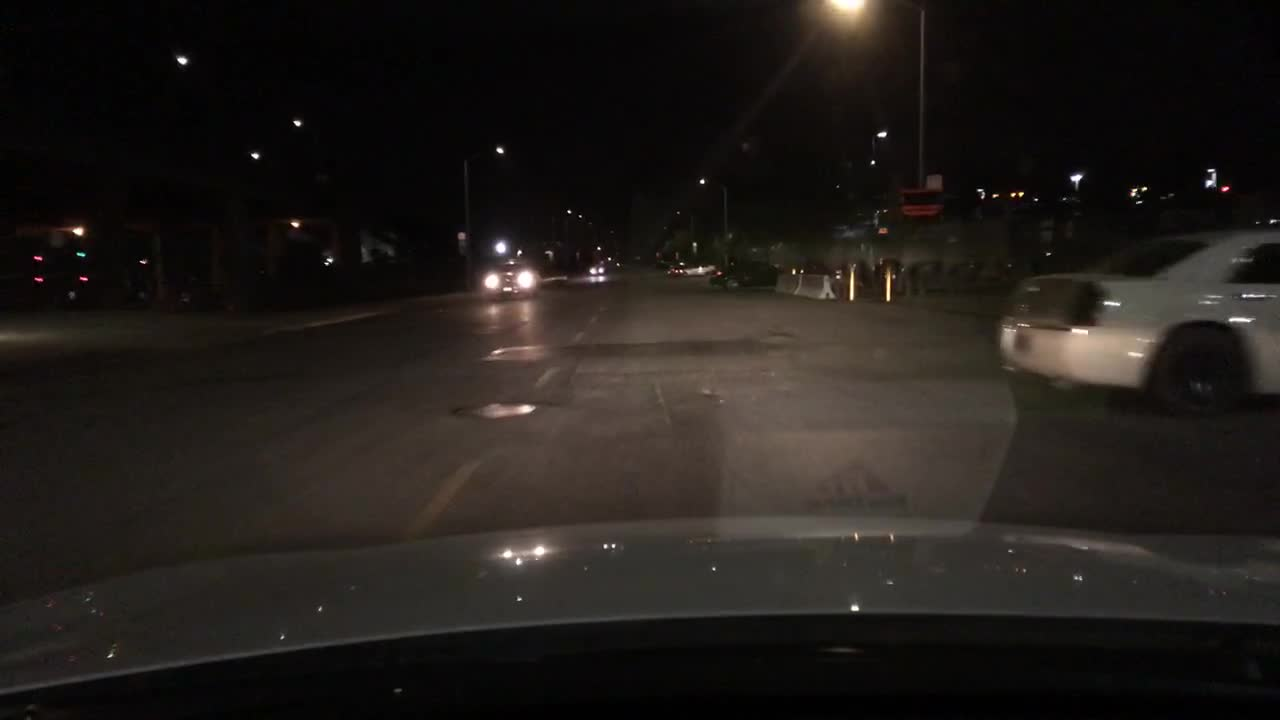car: (993, 220, 1280, 419), (475, 252, 543, 298), (589, 258, 613, 278), (690, 263, 718, 279), (667, 261, 687, 279)
